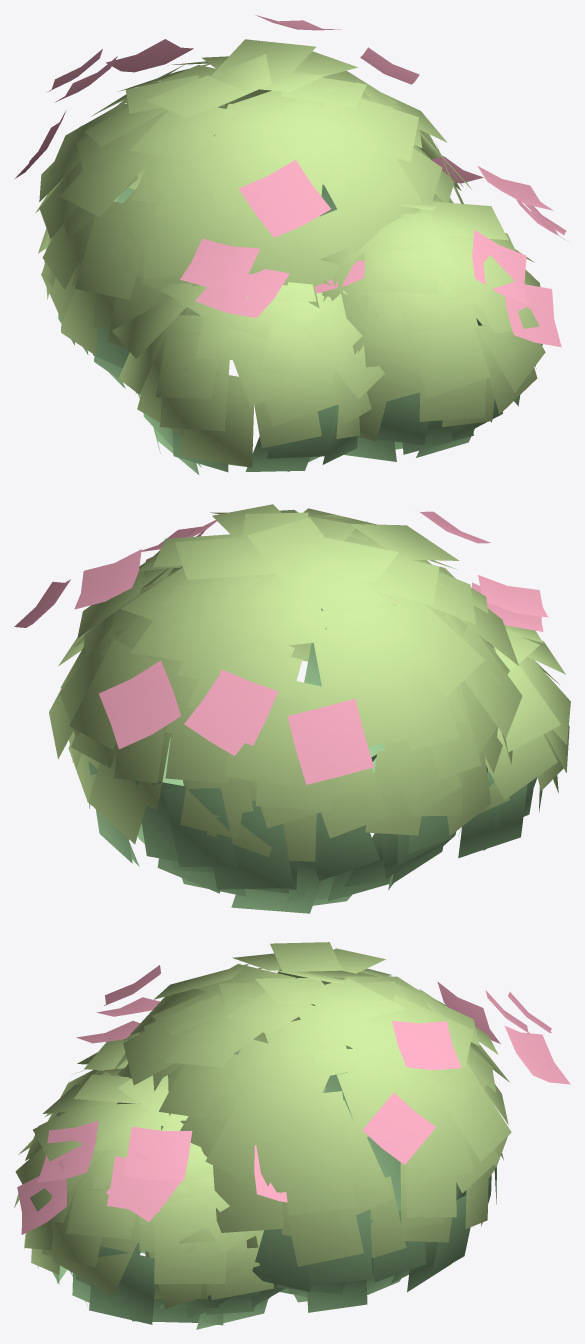
The model's file is plant_bush_b.glb.
The picture shows the model from 3 angles, top to bottom: view 1: azimuth 30°, elevation 25°; view 2: azimuth 150°, elevation 25°; view 3: azimuth 270°, elevation 25°; orthographic projection. The views are drawn at different scales.
Parts seen in each view (by area): view 1: plant_bush_1; view 2: plant_bush_1; view 3: plant_bush_1.
Boxes of the visible parts, x1=… form: plant_bush_1: x1=15, y1=15, x2=568, y2=474; plant_bush_1: x1=14, y1=504, x2=570, y2=913; plant_bush_1: x1=14, y1=942, x2=570, y2=1329.
Bounding box in the file's own units: 1.71 × 1.26 × 2.08.
